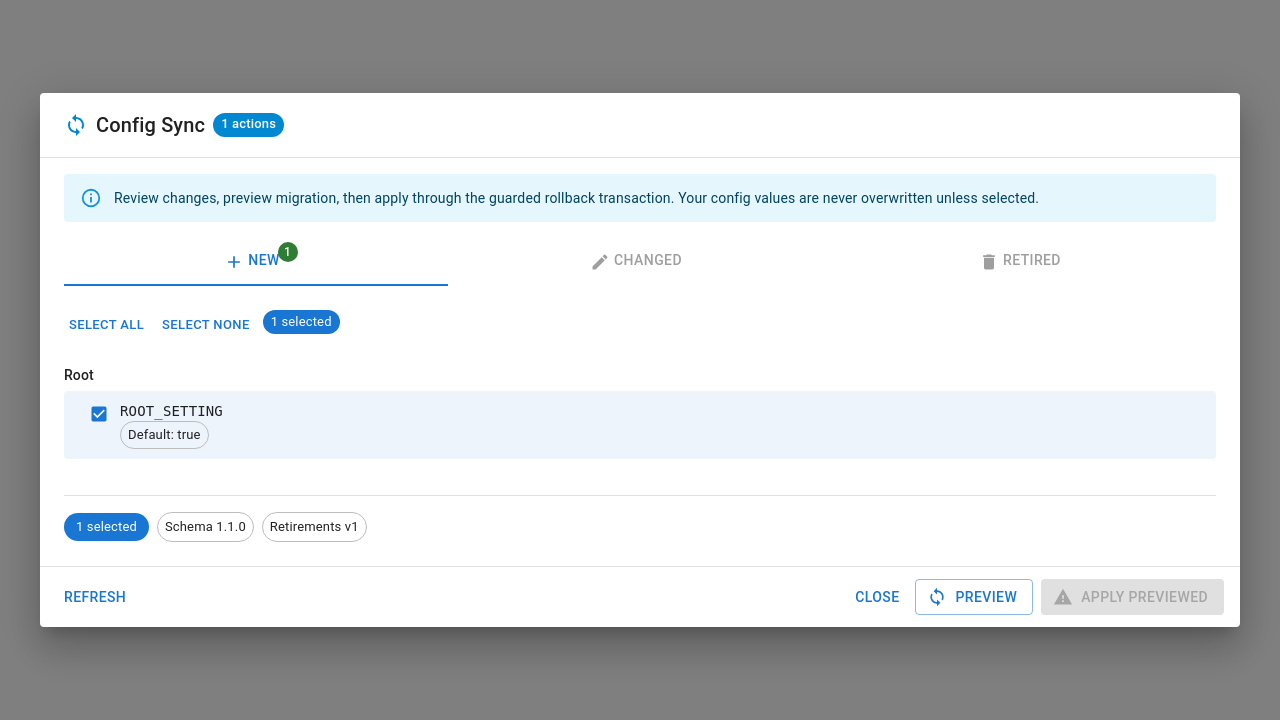
it: SyncWithDefaultsDialog › invalidates a preview and refreshes after an apply failure
Click the button "Preview" at (974, 597), box [916,579,1033,615]
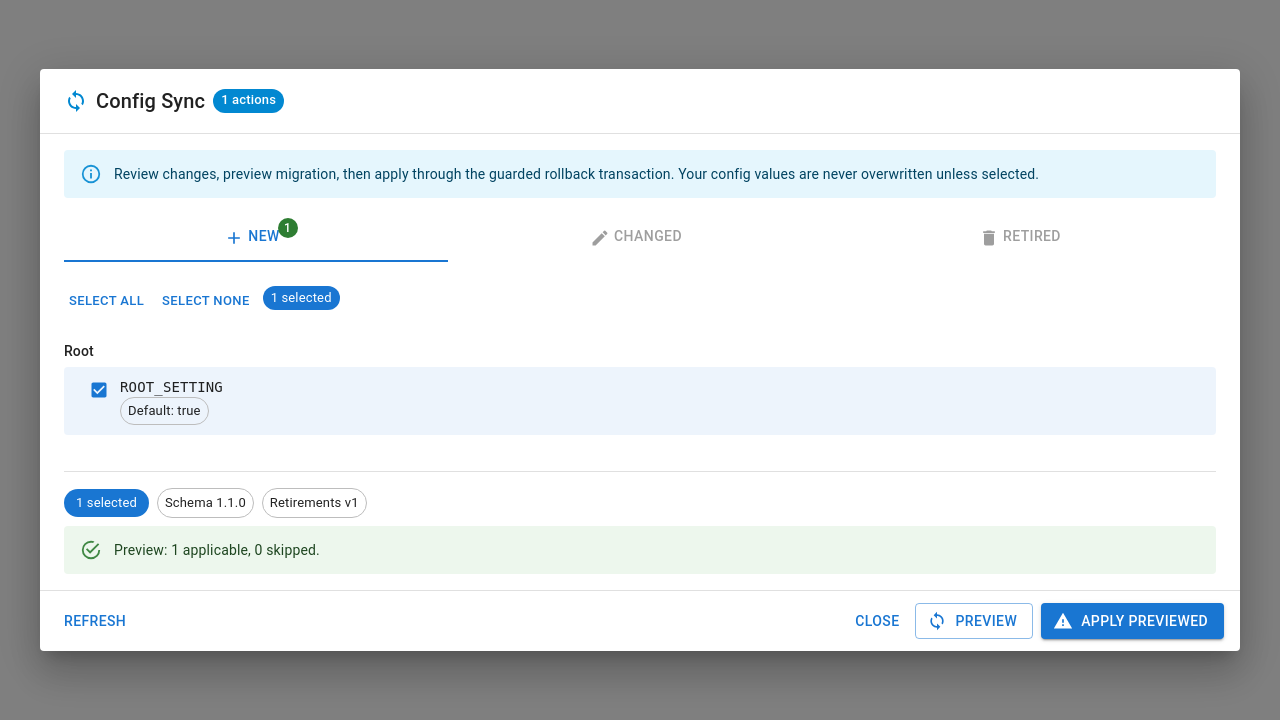
Result: the button "Apply Previewed" is enabled
Click the button "Apply Previewed" at (1133, 621), box [1041,603,1224,639]
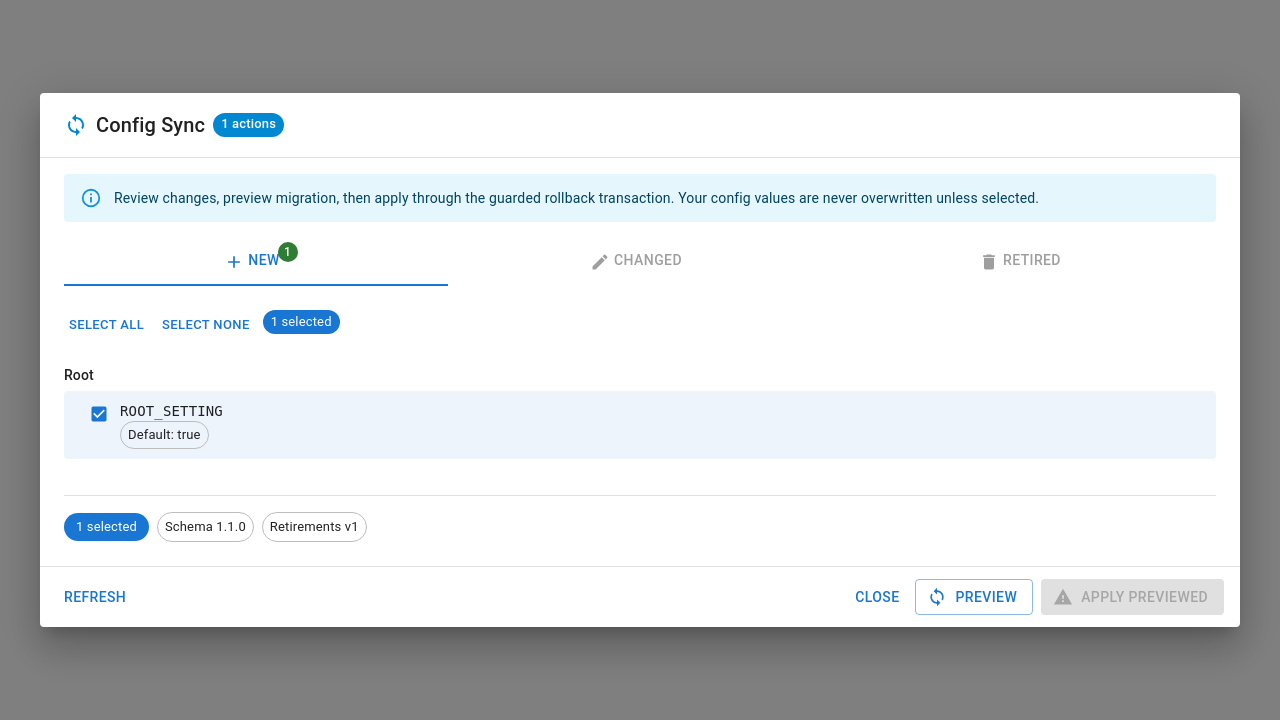
Result: the button "Apply Previewed" is disabled at [1041,579,1224,615]
